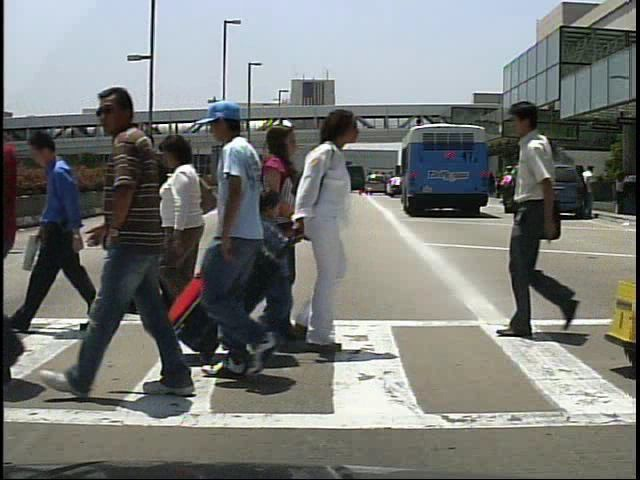person: (59, 84, 232, 412), (201, 105, 309, 388), (492, 93, 585, 339), (17, 122, 114, 336), (291, 105, 369, 358), (253, 123, 313, 360), (118, 130, 191, 322), (150, 133, 216, 327), (0, 92, 42, 391), (250, 182, 291, 351), (582, 164, 602, 218), (506, 165, 526, 215), (498, 166, 516, 219)
